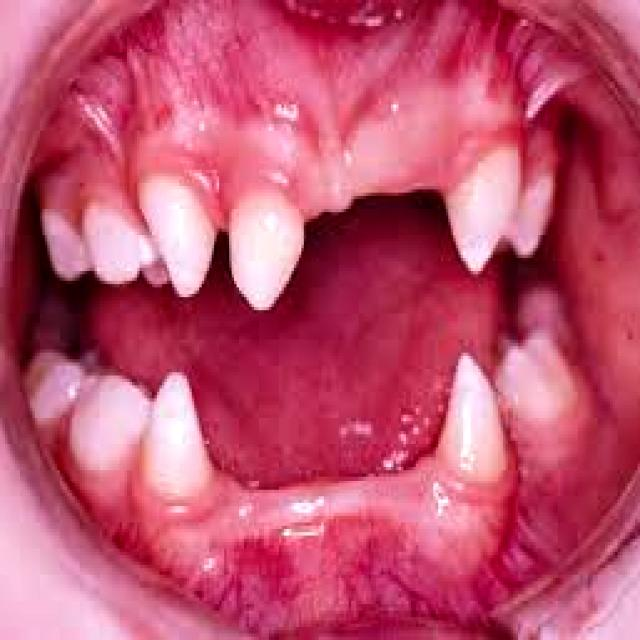hypodontia: (27, 330, 615, 581), (40, 56, 575, 307)
